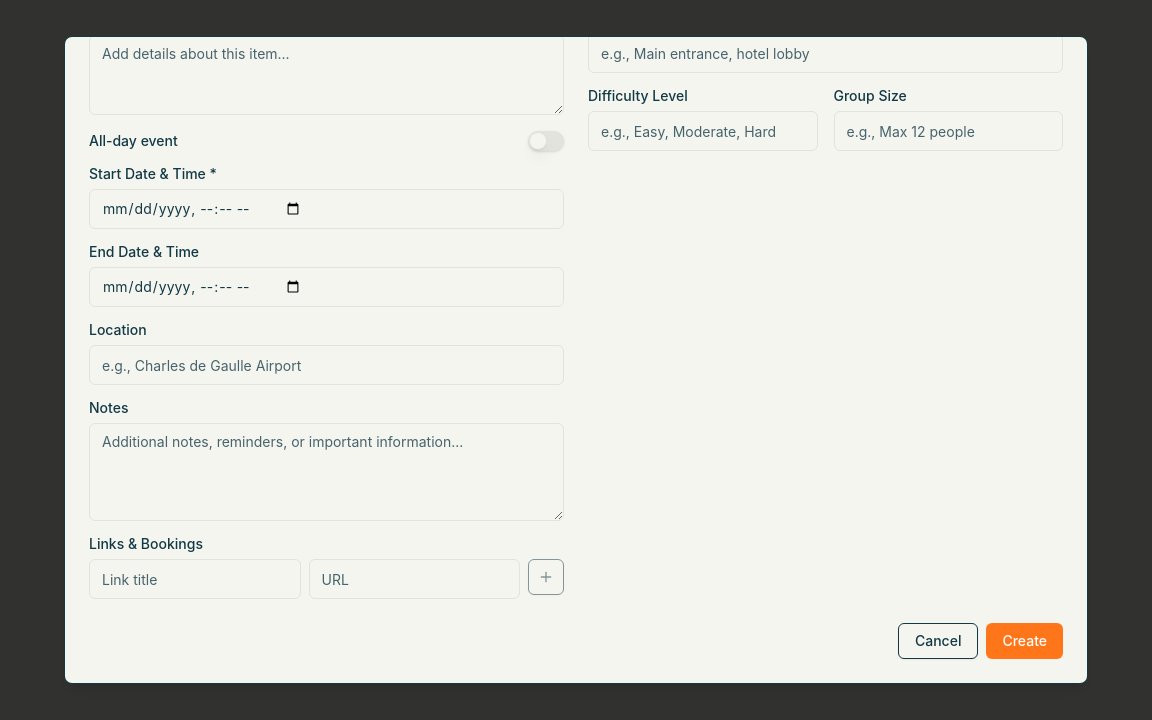
Test case: ItineraryItemDialog › Create Mode › should validate required fields
(page scrolled)
Click the button "Create" at (1025, 641), box [986,623,1063,659]
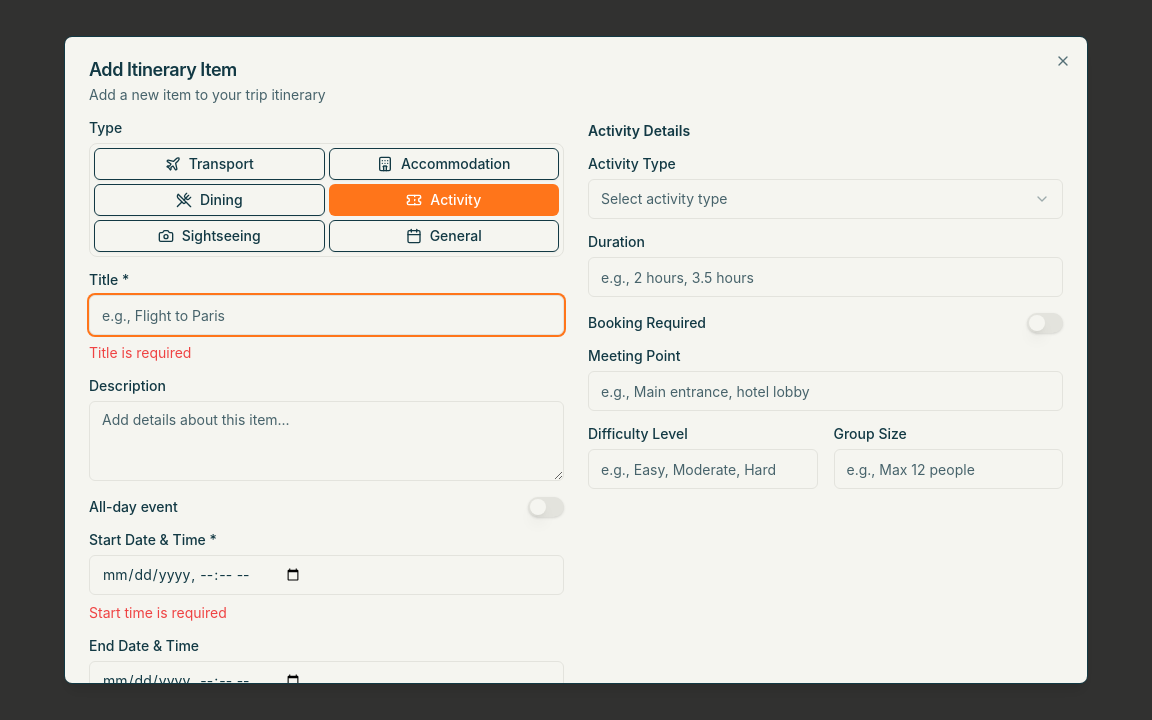
Expected: the text "Title is required" is shown, [89,344,191,361]
